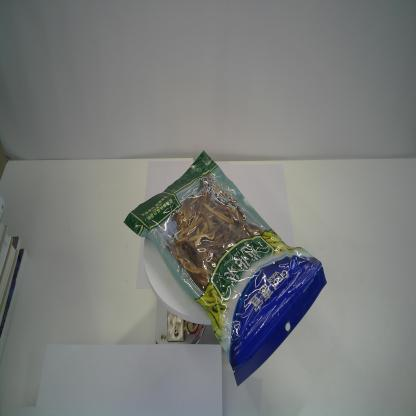Dried Food: (122, 151, 328, 386)
